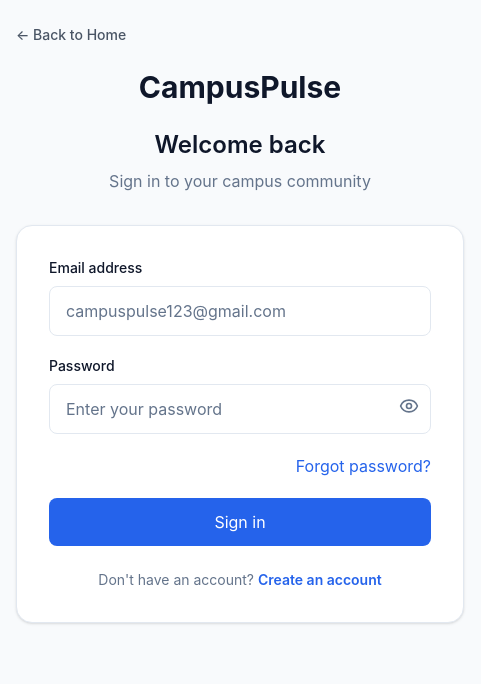
Login › shows validation errors for invalid email and short password
The image size is (481, 684).
In the field labelled "Email address": [240, 311] box [49,286,431,336], type "invalid-email"
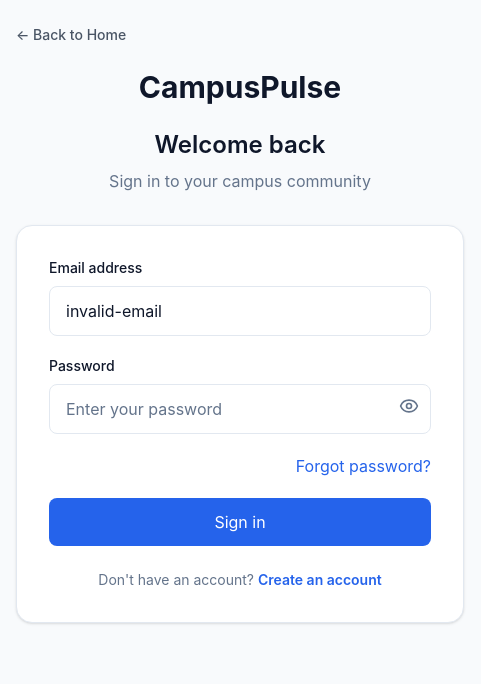
In the password field labelled "Password": [240, 409] box [49,384,431,434], type "123"
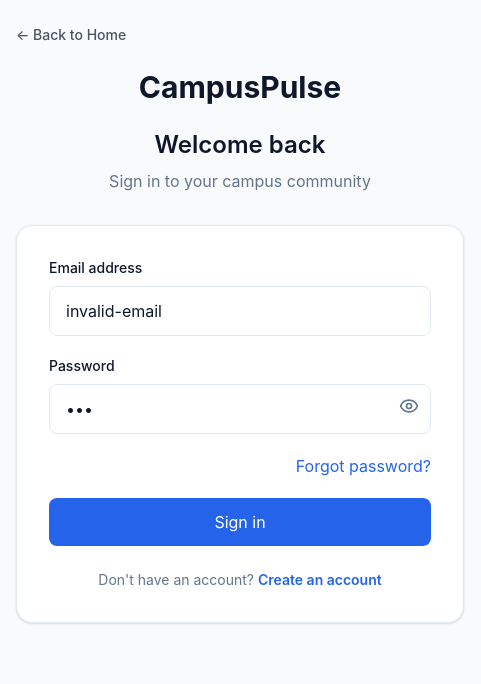
Click the button "Sign in": [240, 522] box [49,498,431,546]
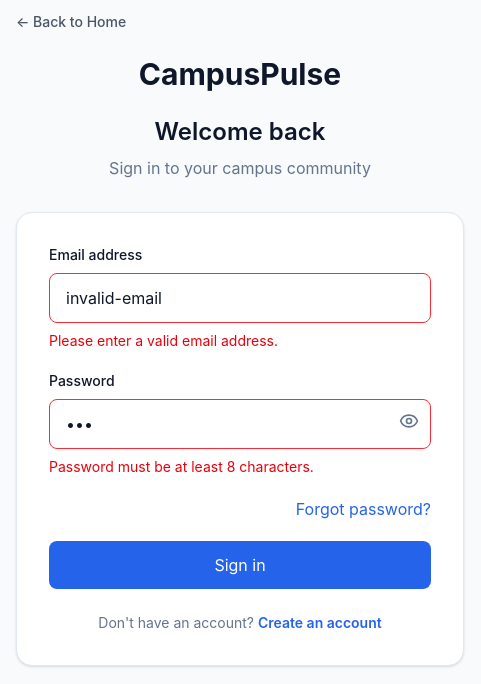
Expected: the text "Please enter a valid email address." is shown, [49,332,278,349]
Expected: the text "Password must be at least 8 characters." is shown, [49,458,314,475]
